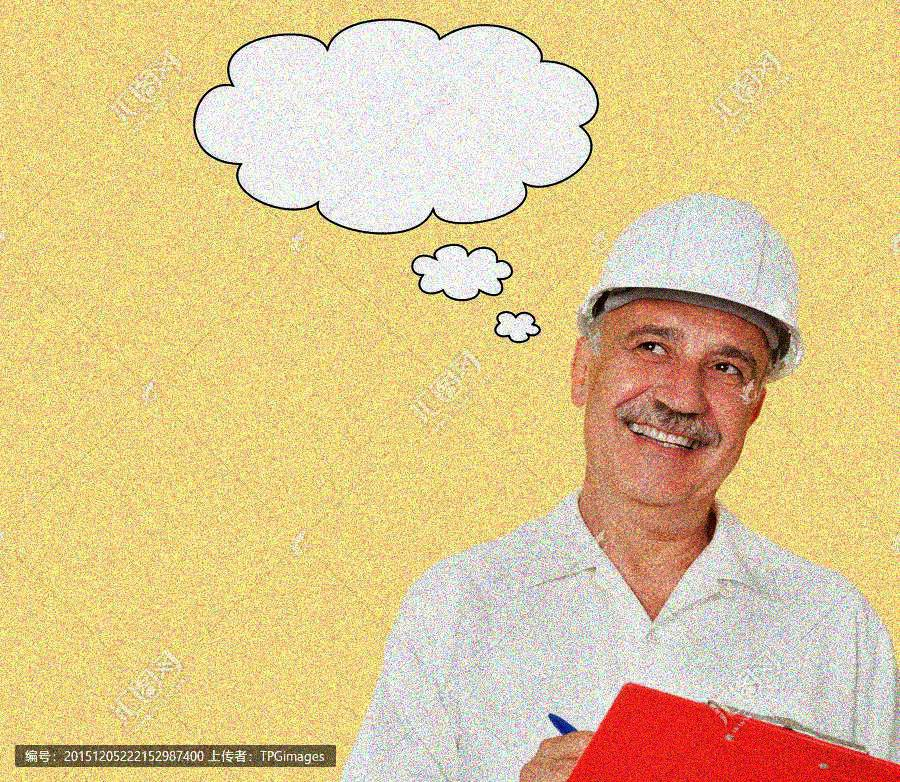helmet: (565, 187, 807, 525)
